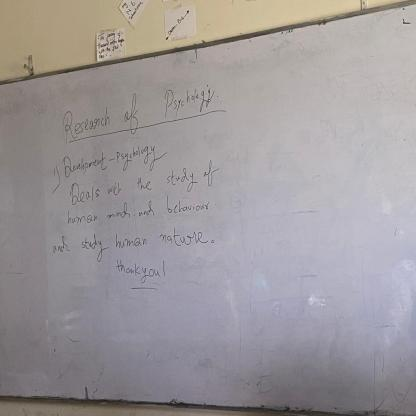Handwritten text: (55, 75, 225, 146), (63, 158, 219, 207), (44, 219, 209, 260), (58, 192, 215, 230), (56, 133, 167, 182), (113, 255, 163, 294)
